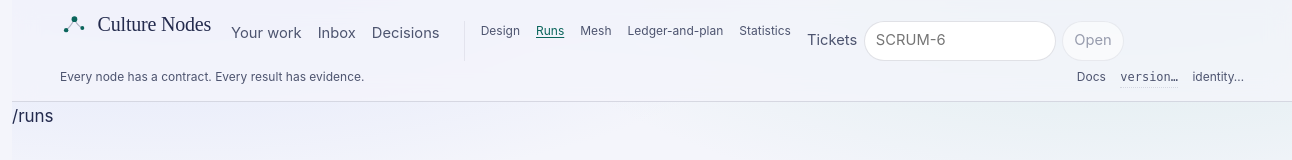
it: Header tickets entry (task t27) › percent-encodes a key that would otherwise change the path
In the field labelled "Tickets": point(960, 41) [864,21,1056,61], type "A/B"
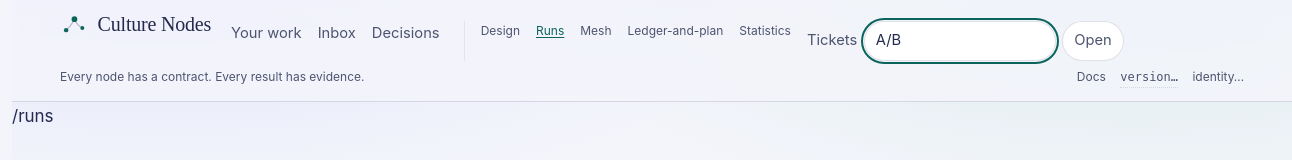
Click the button "Open": point(1093, 41) [1062,21,1124,61]
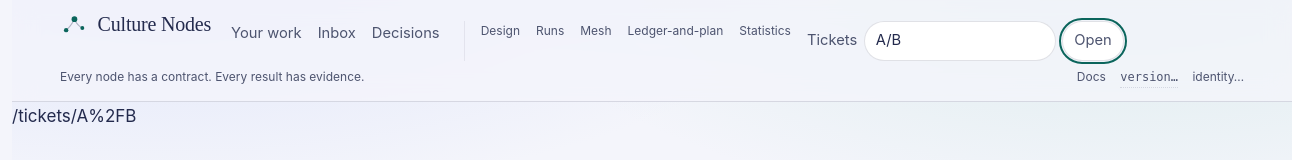
Expected: the text with test id "location" reads "/tickets/A%2FB", [12,106,136,126]
